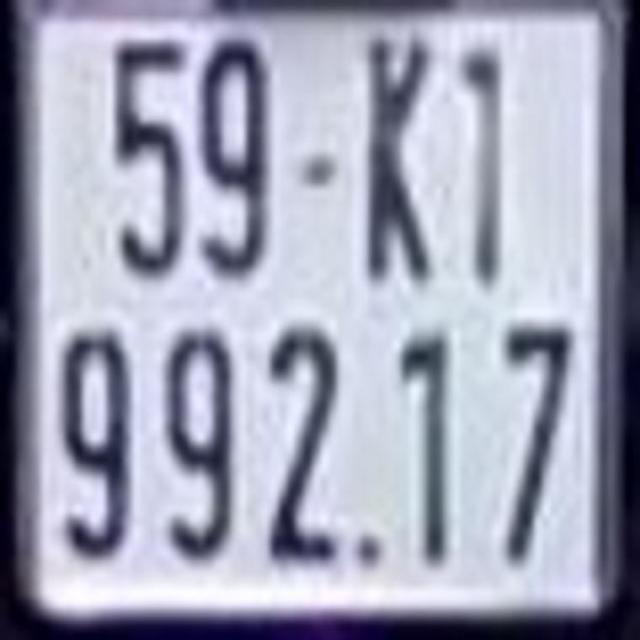1: (401, 308, 450, 566), (459, 24, 504, 283)
2: (270, 319, 341, 563)
5: (112, 36, 190, 278)
7: (506, 318, 574, 564)
9: (60, 330, 130, 557), (200, 39, 267, 276), (167, 323, 233, 559)
K: (369, 33, 434, 280)
